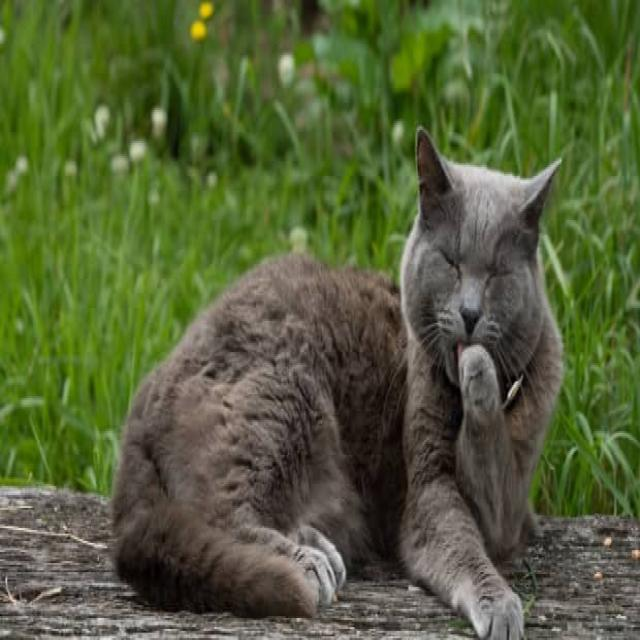cat: (114, 129, 560, 637)
